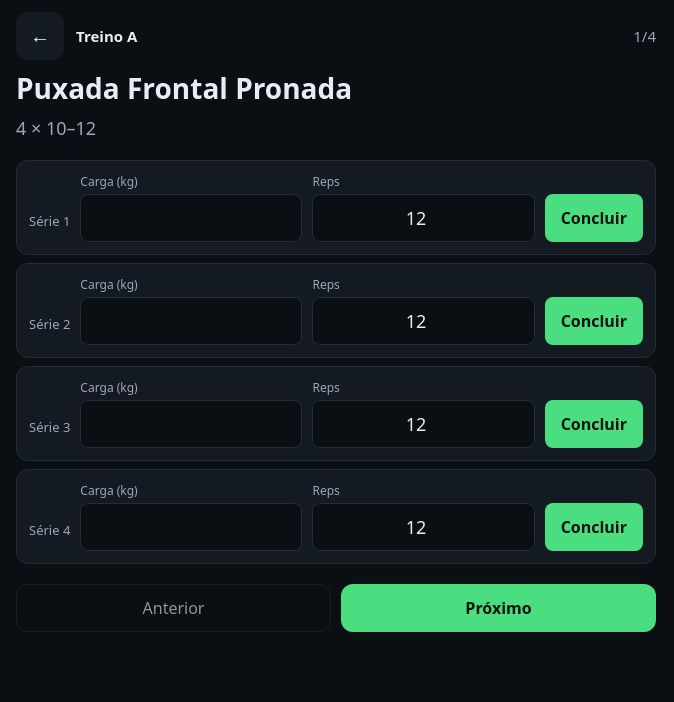
Test: ExecucaoTreino › um exercício por vez, nunca a lista inteira › mantém a técnica avançada sempre visível, sem exigir toque
Click the button "Próximo". click: (498, 608)
box: [341, 584, 656, 632]
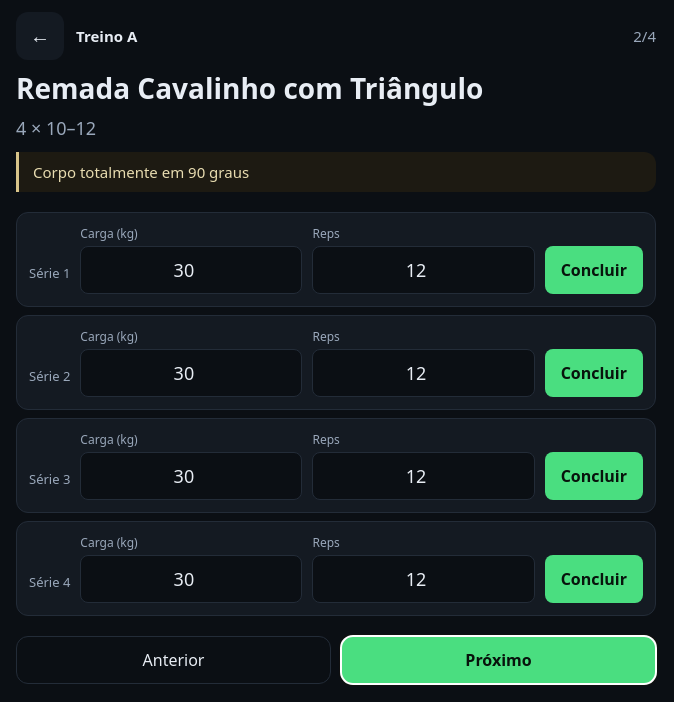
Expected: the text "Corpo totalmente em 90 graus" is shown, [16, 152, 656, 192]
